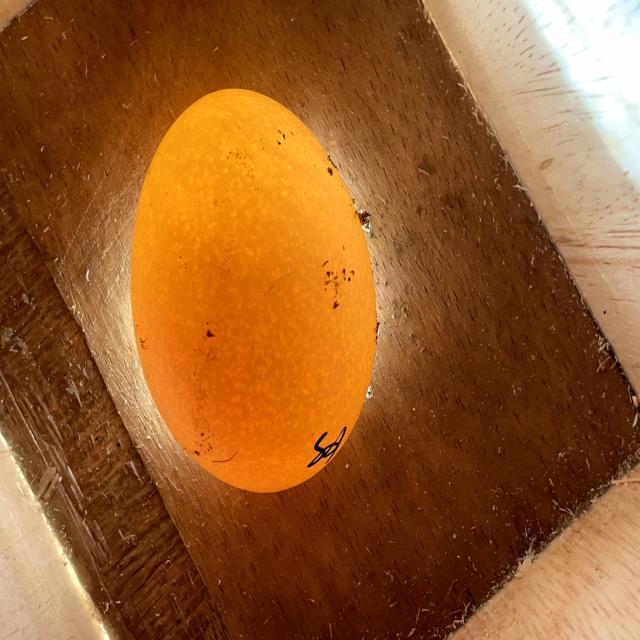infertile: (131, 88, 376, 492)
